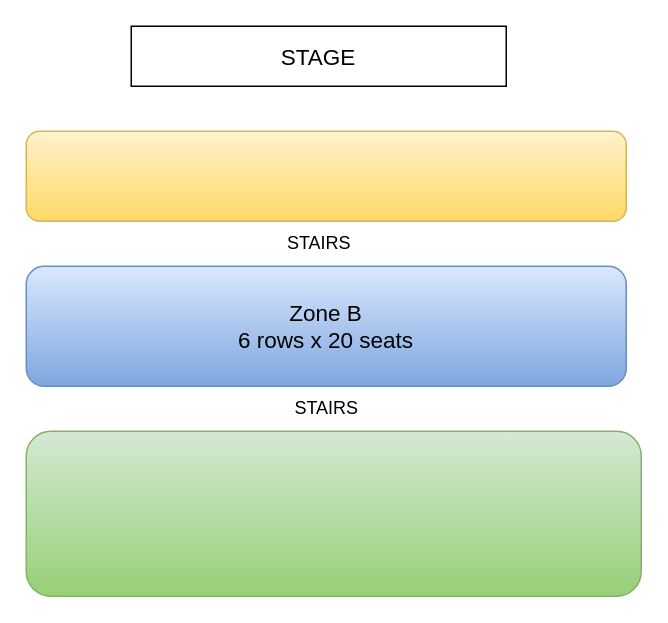
The diagram is 668 pixels wide and 623 high, and some of its shapes have lost their labels. Here are the shapes that lost their labels. From the top down, the centre of each, then its label:
At point (325, 175): "Zone A 4 rows x 20 seats".
At point (333, 513): "Zone C 10 rows x 20 seats".
